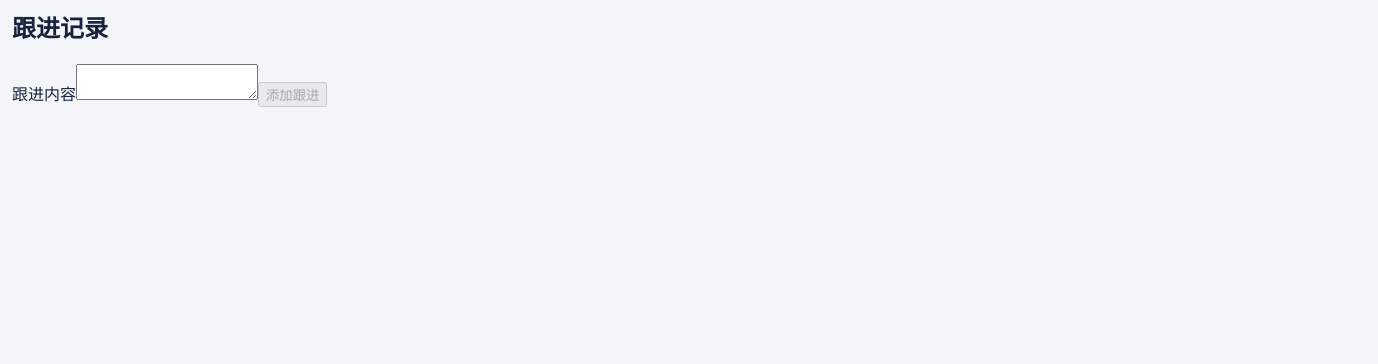
Test: FollowUpTimeline › renders append loading and 409 conflict with retry
Later steps or results of the test are not shown.
In the text box labelled "跟进内容": [167, 82] box [76,64,258,100], type "首次沟通"
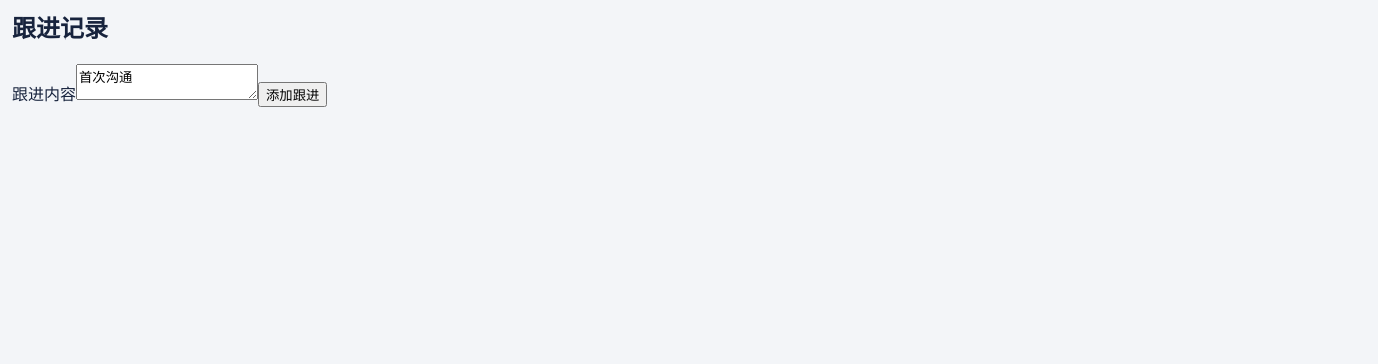
Click the button "添加跟进": [293, 94] box [258,82,327,107]
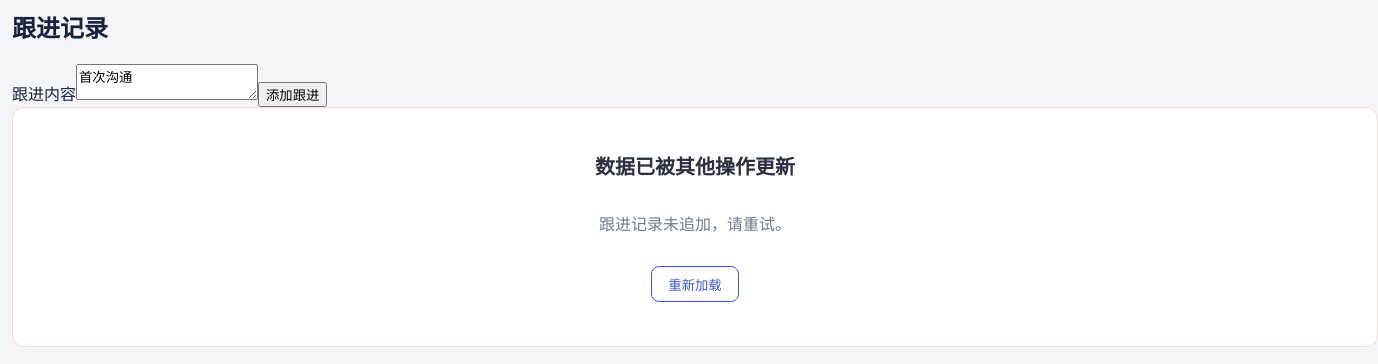
Result: the message "数据已被其他操作更新 跟进记录未追加，请重试。 重新加载" is shown
